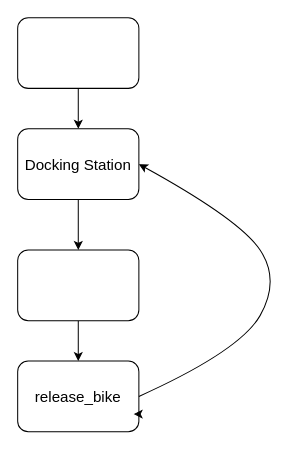
The diagram is 288 pixels wide and 449 high, and some of its shapes have lost their labels. The shapes that lost their labels are listed below. From the top down, each one's box as (x1, y1, x2, y2) in pixels, then its label:
(17, 17, 139, 88): Person
(17, 249, 139, 321): Bike
